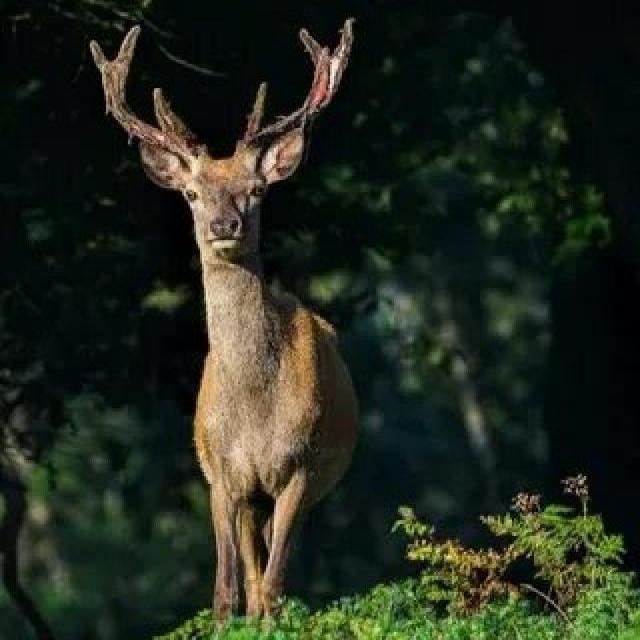deer: (51, 84, 460, 611)
